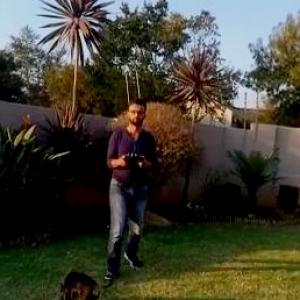follow: (100, 92, 160, 282)
null: (54, 267, 116, 299)
